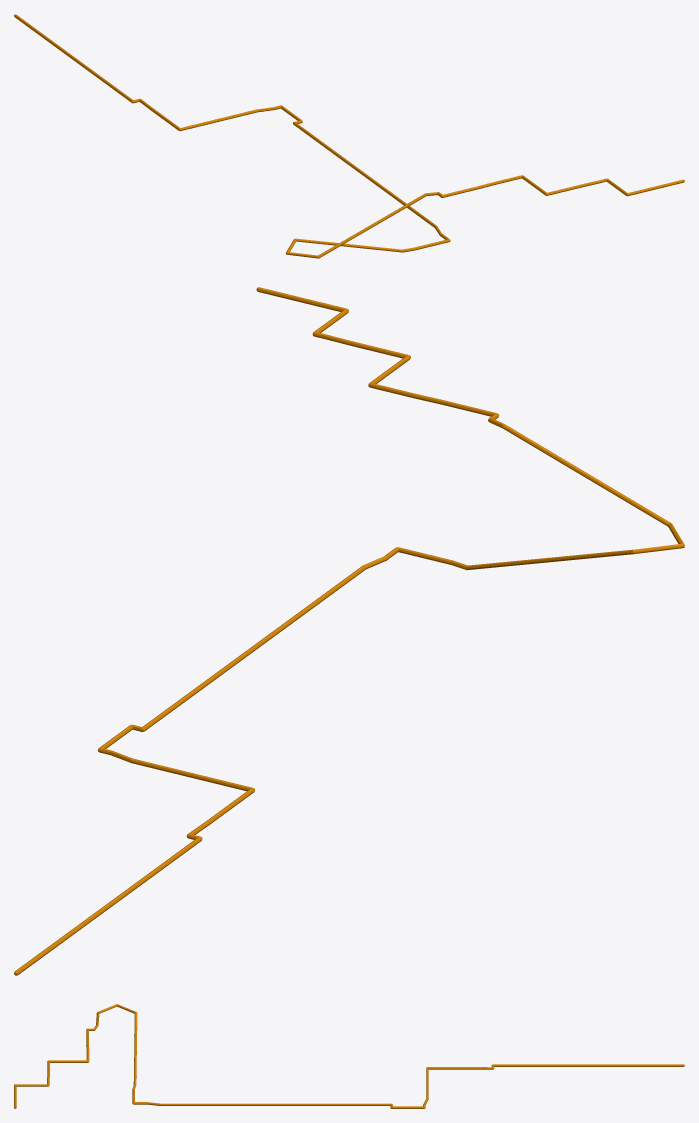
3 renders of one model, top to bottom at view 1: azimuth 30°, elevation 25°; view 2: azimuth 150°, elevation 25°; view 3: azimuth 270°, elevation 25°, orthographic. The views are drawn at different scales.
Bounding box in the file's own units: 2398 × 520 × 5101.
